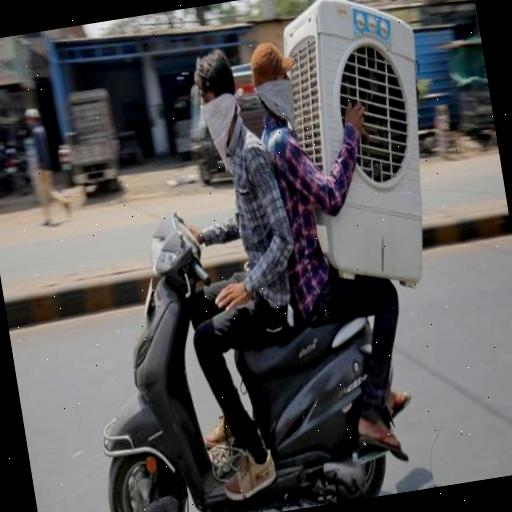no helmet: (25, 11, 323, 512)
